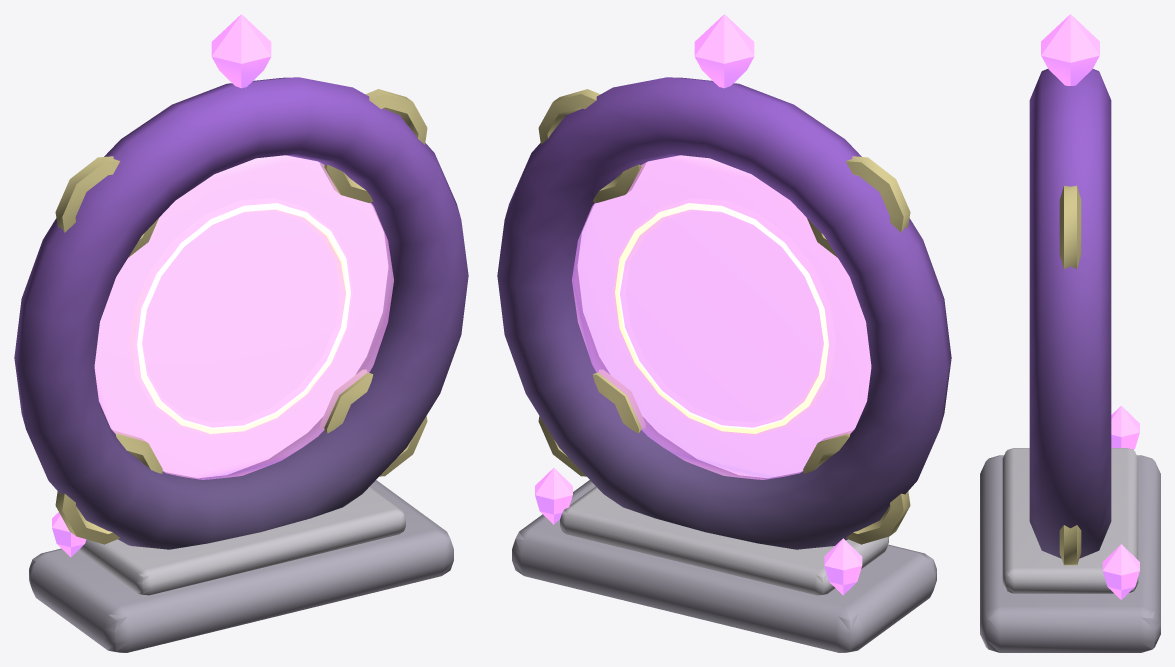
The model's file is portalEnd.glb.
3 views of the same model, side by side, from view 1: azimuth 30°, elevation 25°; view 2: azimuth 150°, elevation 25°; view 3: azimuth 270°, elevation 25° (orthographic).
Visible parts, largest first — view 1: Body, Glow_7B2FF7_T35, Glow_FFE066, Glow_7B2FF7; view 2: Body, Glow_7B2FF7_T35, Glow_FFE066, Glow_7B2FF7; view 3: Body, Glow_7B2FF7.
Boxes of the visible parts, x1,y1,x2,y2 form: Body: [14, 77, 468, 652]; Glow_7B2FF7_T35: [94, 155, 393, 479]; Glow_FFE066: [130, 198, 352, 435]; Glow_7B2FF7: [52, 14, 271, 557]; Body: [497, 77, 951, 652]; Glow_7B2FF7_T35: [572, 155, 871, 479]; Glow_FFE066: [613, 198, 835, 435]; Glow_7B2FF7: [535, 14, 862, 595]; Body: [980, 69, 1160, 652]; Glow_7B2FF7: [1041, 14, 1139, 599].
Size of the model in its own units: 7.51 by 9.24 by 2.69.
